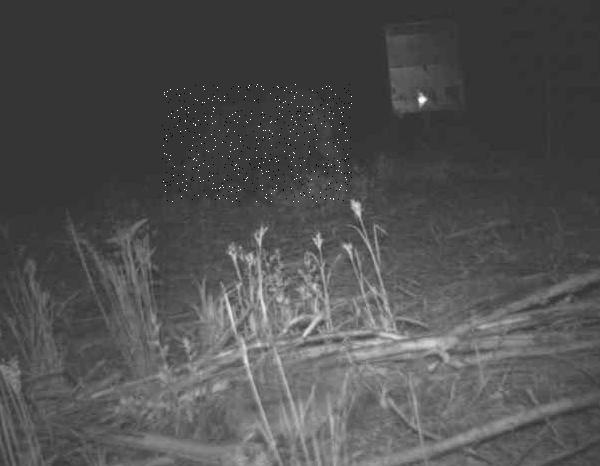Hog: (162, 85, 352, 203)
